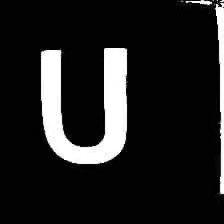LTR_U: (34, 37, 133, 171)
